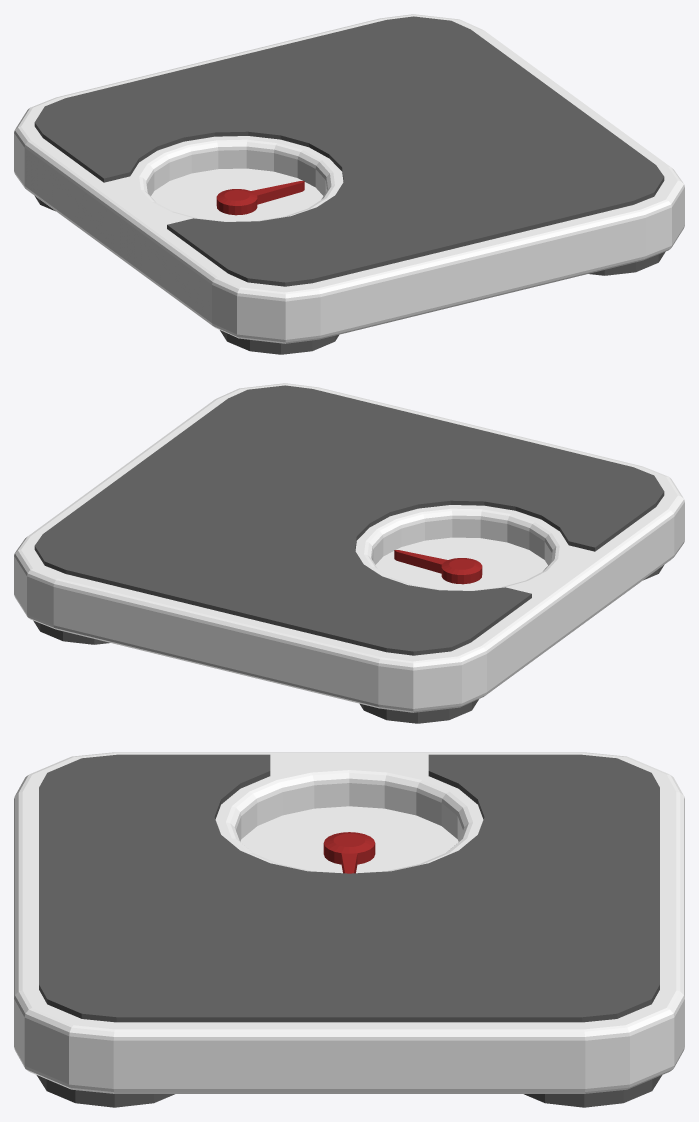
File: 535 Bathroom Scale.obj
3 views of the same model, one above another, from view 1: azimuth 30°, elevation 25°; view 2: azimuth 150°, elevation 25°; view 3: azimuth 270°, elevation 25° (orthographic). The views are drawn at different scales.
Visible parts, largest first — view 1: Bathroom_Scale; view 2: Bathroom_Scale; view 3: Bathroom_Scale.
Boxes of the visible parts, x1,y1,x2,y2 form: Bathroom_Scale: [14, 14, 684, 354]; Bathroom_Scale: [14, 383, 684, 723]; Bathroom_Scale: [14, 752, 684, 1107].
Bounding box in the file's own units: 38.05 × 5.59 × 38.05.
1 material, 1 textured.
